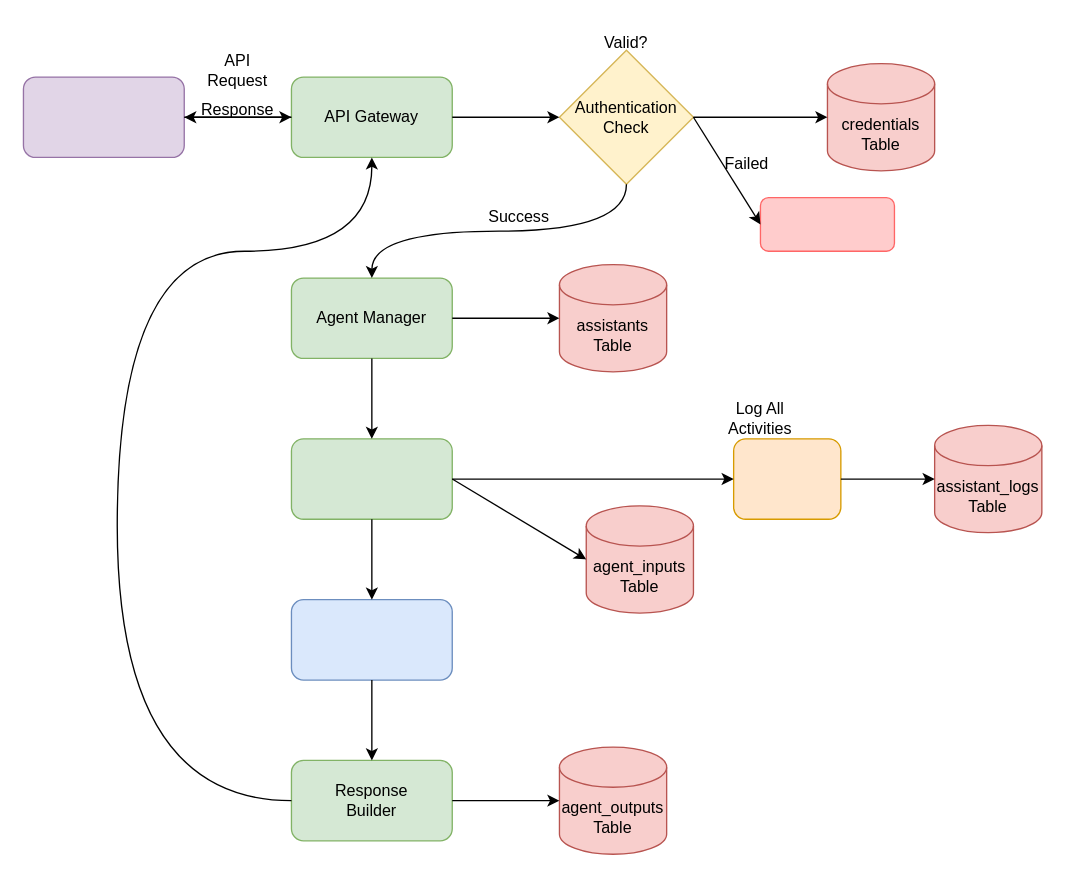
Image size: 1065x878. Some labels were removed from this diagram. Here are the shapes that lost their labels. From the top down, the centre of each, then its label:
At [103,116]: "External AI Agent".
At [826,223]: "401 Unauthorized".
At [371,478]: "Request Processor".
At [786,478]: "Logging Service".
At [371,639]: "AI Processing Service".
